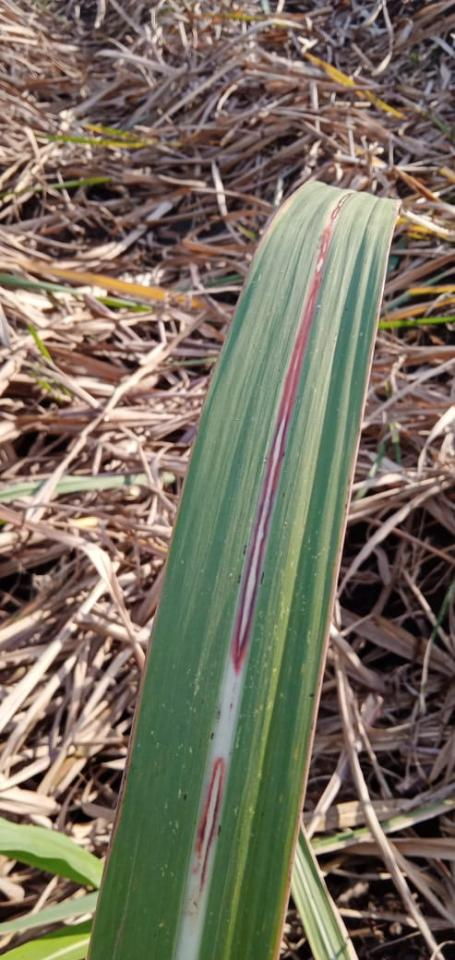RedRot: (231, 224, 332, 679), (194, 755, 226, 896), (331, 192, 356, 221), (229, 684, 235, 715)
Yellow: (86, 180, 313, 959), (273, 198, 403, 959)
